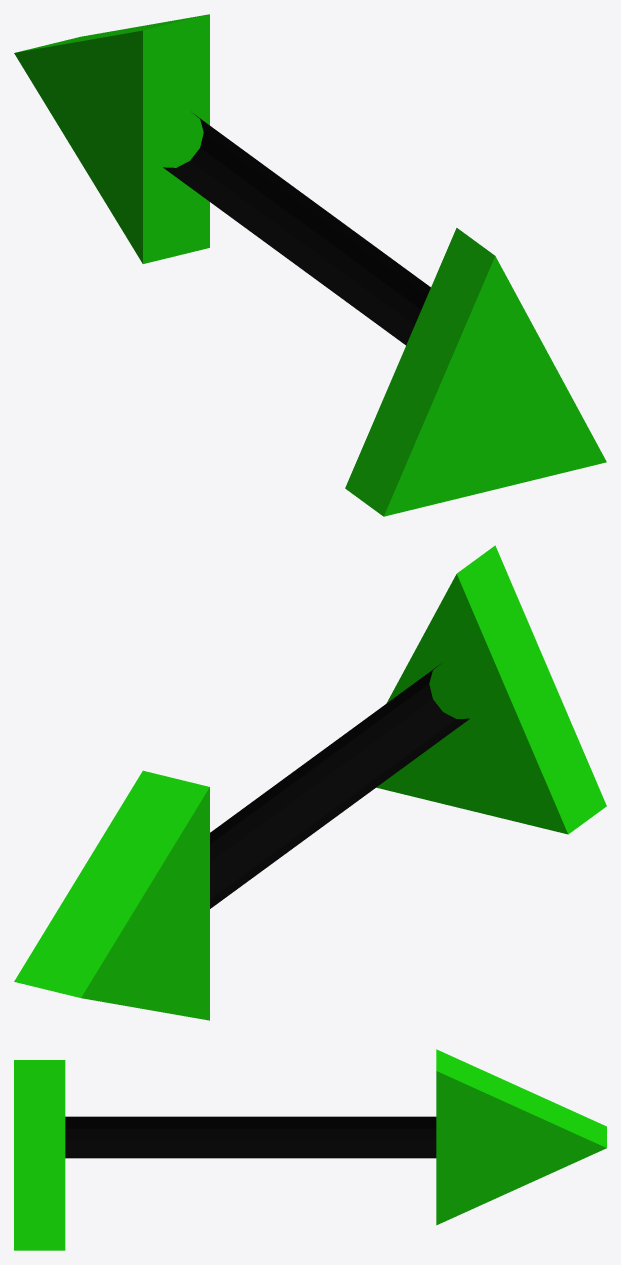
File: Green_key.fbx
3 renders of one model, top to bottom at view 1: azimuth 30°, elevation 25°; view 2: azimuth 150°, elevation 25°; view 3: azimuth 270°, elevation 25°, orthographic. The views are drawn at different scales.
Parts seen in each view (by area): view 1: Green_key; view 2: Green_key; view 3: Green_key.
Part boxes in pixels (x1,y1,x2,y2): Green_key: (14, 14, 606, 516); Green_key: (14, 545, 606, 1020); Green_key: (14, 1049, 606, 1250).
Bounding box in the file's own units: 0.05 × 0.05 × 0.1737.
